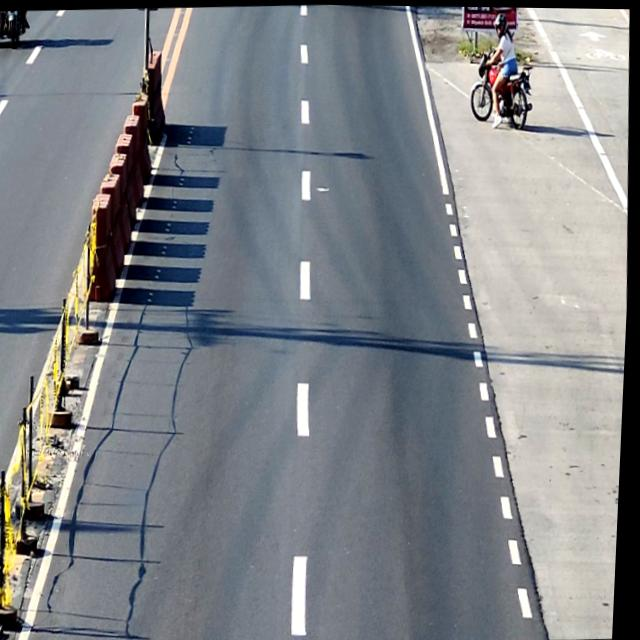Motorcycle: (467, 47, 538, 131)
Tricycle: (0, 10, 28, 53)
